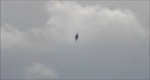maybay_muctieu: (73, 32, 80, 43)
